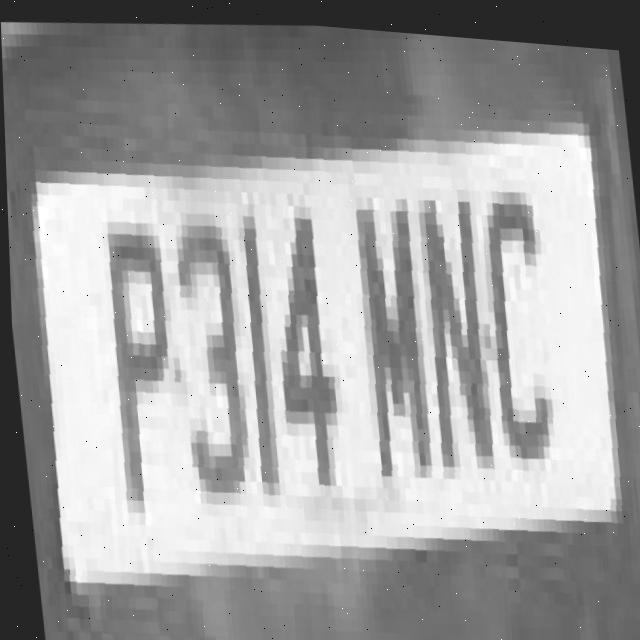LicensePlate: (1, 39, 640, 640)
